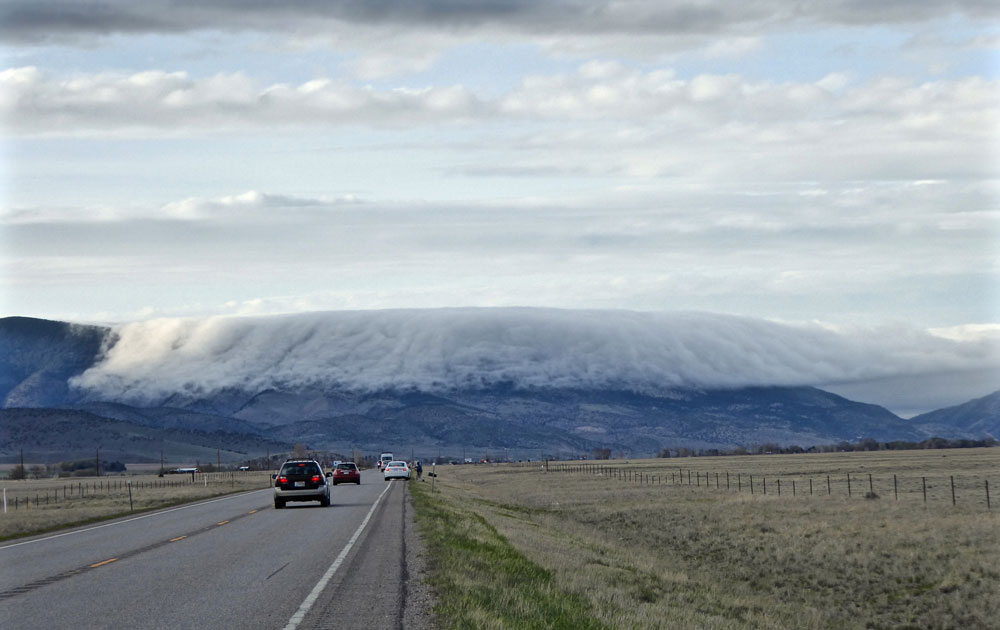Stratus: (8, 35, 1000, 168), (8, 178, 1000, 281), (134, 292, 1000, 389)
